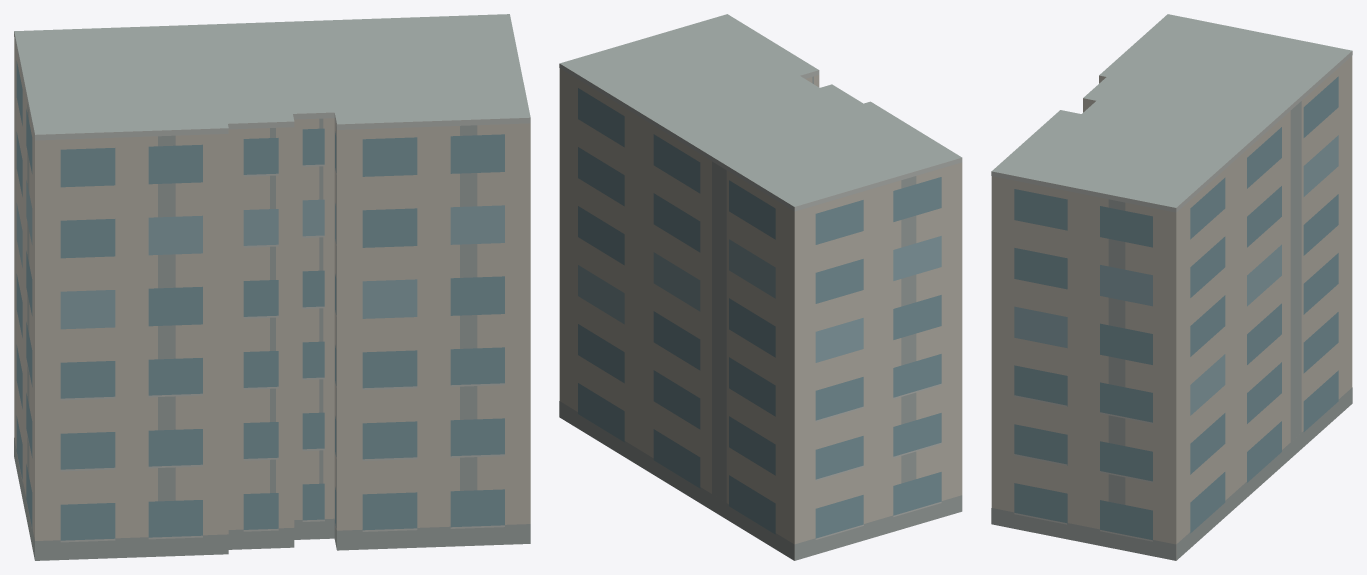
The model's file is survey-upis-32552443.glb.
3 renders of one model, left to right at view 1: azimuth 30°, elevation 25°; view 2: azimuth 150°, elevation 25°; view 3: azimuth 270°, elevation 25°, orthographic. The views are drawn at different scales.
Visible parts, largest first — view 1: survey-upis-32552443.tmp; view 2: survey-upis-32552443.tmp; view 3: survey-upis-32552443.tmp.
Boxes of the visible parts, <box> form: survey-upis-32552443.tmp: <box>14,14,530,560</box>; survey-upis-32552443.tmp: <box>559,14,962,560</box>; survey-upis-32552443.tmp: <box>991,14,1352,560</box>.
Bounding box in the file's own units: 21.58 × 18.3 × 16.97.
